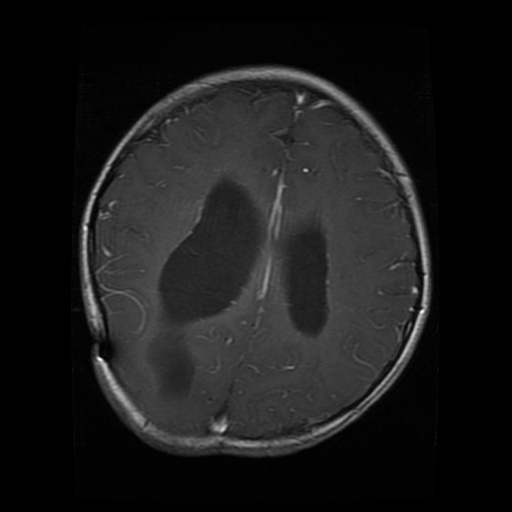glioma: (150, 327, 195, 396)
